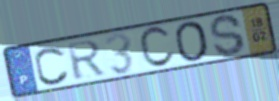3: (104, 32, 137, 77)
C: (137, 25, 177, 70), (33, 45, 71, 87)
O: (173, 20, 212, 64)
R: (64, 38, 107, 82)
S: (208, 13, 248, 58)
